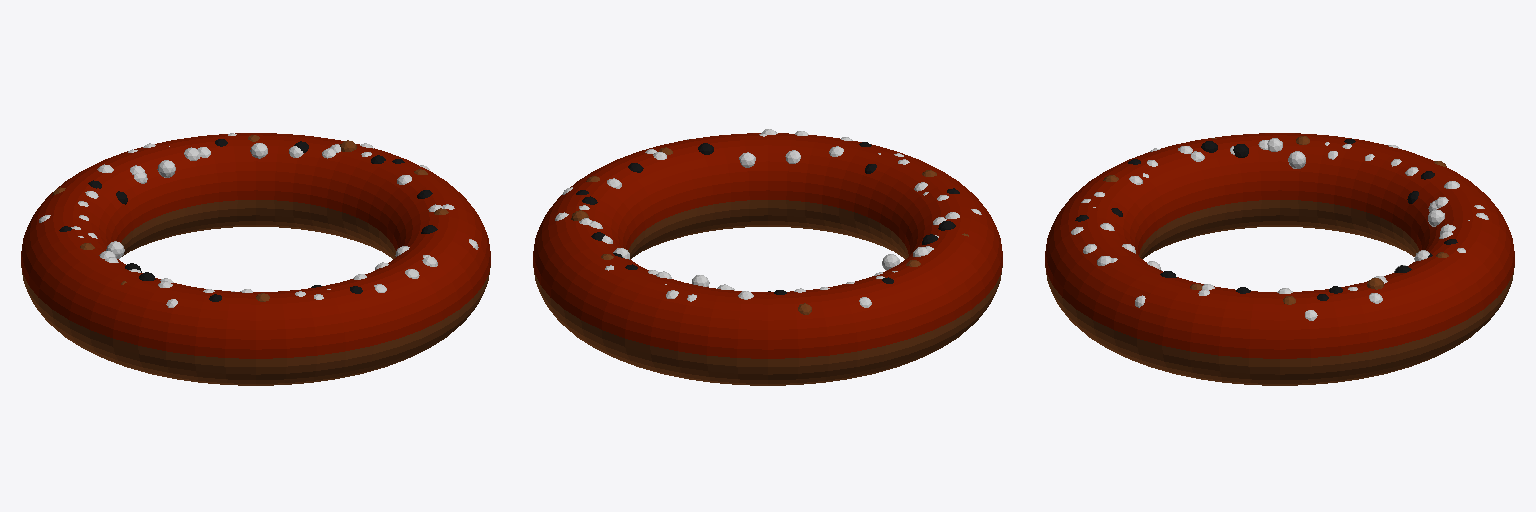
The model's file is donut.obj.
3 renders of one model, left to right at view 1: azimuth 30°, elevation 25°; view 2: azimuth 150°, elevation 25°; view 3: azimuth 270°, elevation 25°, orthographic.
Parts seen in each view (by area): view 1: Torus; view 2: Torus; view 3: Torus.
Boxes of the visible parts, box(x1,y1,x2,y2) form: Torus: box(21, 133, 490, 385); Torus: box(533, 133, 1002, 385); Torus: box(1045, 133, 1514, 385).
Size of the model in its own units: 2.5 by 0.5378 by 2.5.